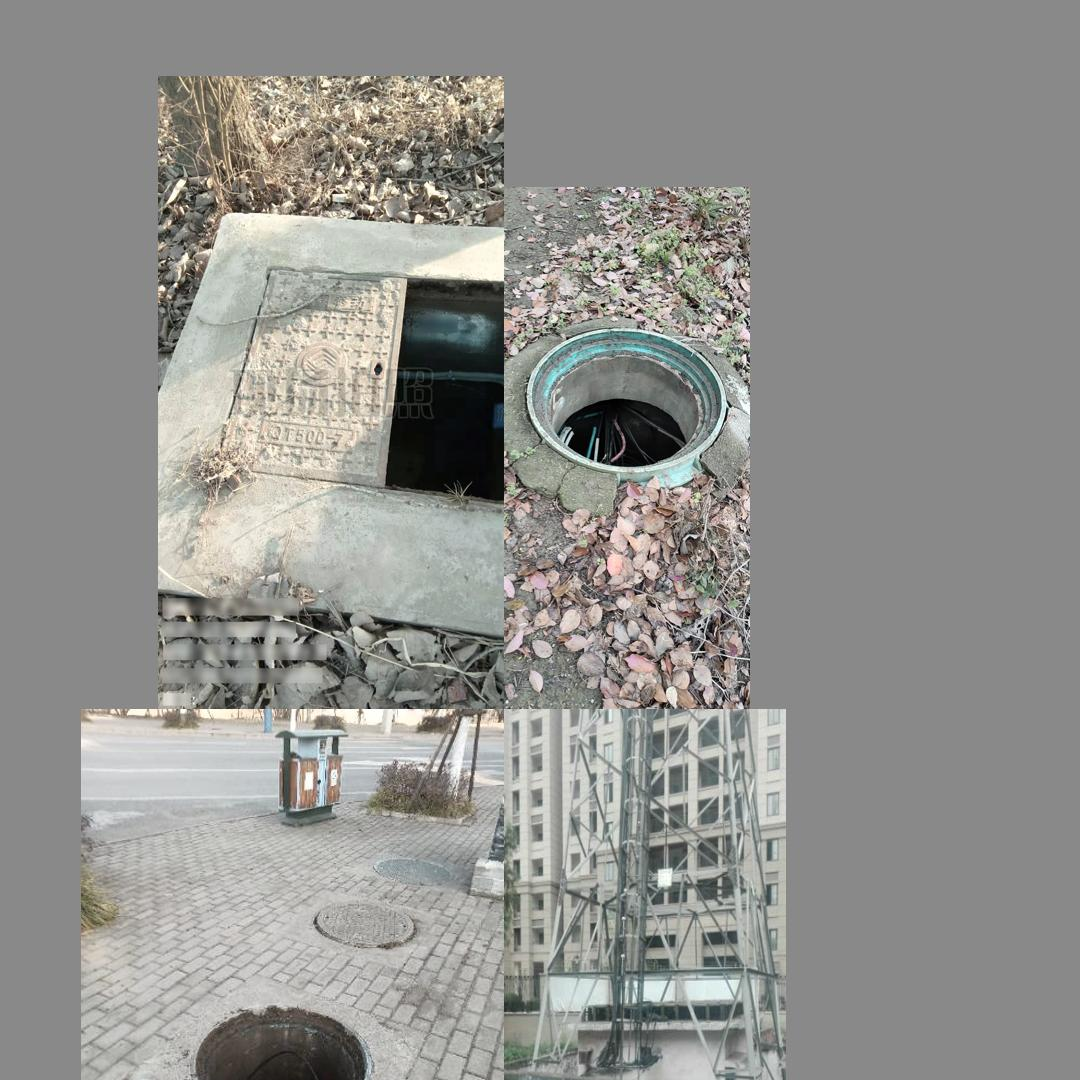good: (314, 898, 415, 950), (374, 856, 457, 888)
lose: (210, 209, 501, 592), (525, 325, 727, 470), (187, 1003, 373, 1080)
